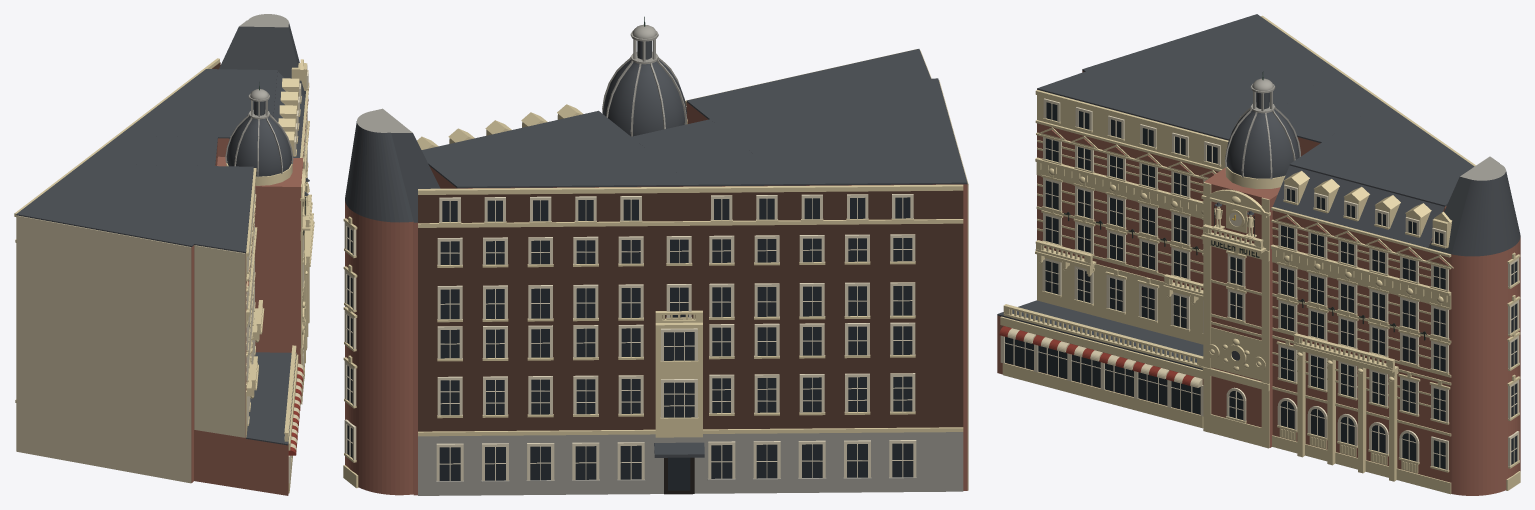
File: doelen-hotel.glb
3 views of the same model, side by side, from view 1: azimuth 30°, elevation 25°; view 2: azimuth 150°, elevation 25°; view 3: azimuth 270°, elevation 25° (orthographic). The views are drawn at different scales.
Parts seen in each view (by area): view 1: doelen-hotel; view 2: doelen-hotel; view 3: doelen-hotel.
Part boxes in pixels (bbox=[...]): doelen-hotel: bbox=[14, 14, 314, 495]; doelen-hotel: bbox=[343, 16, 968, 495]; doelen-hotel: bbox=[997, 14, 1520, 495].
Bounding box in the file's own units: 40.87 × 31.8 × 42.78.
